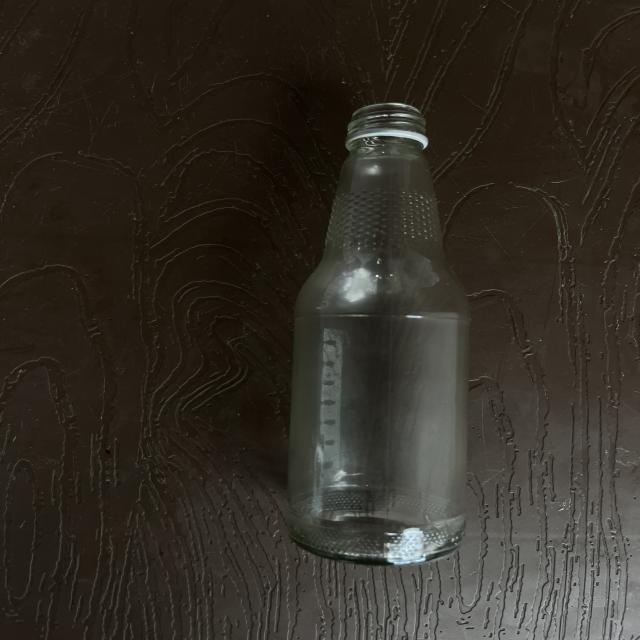Glass_Bottle: (286, 104, 469, 564)
